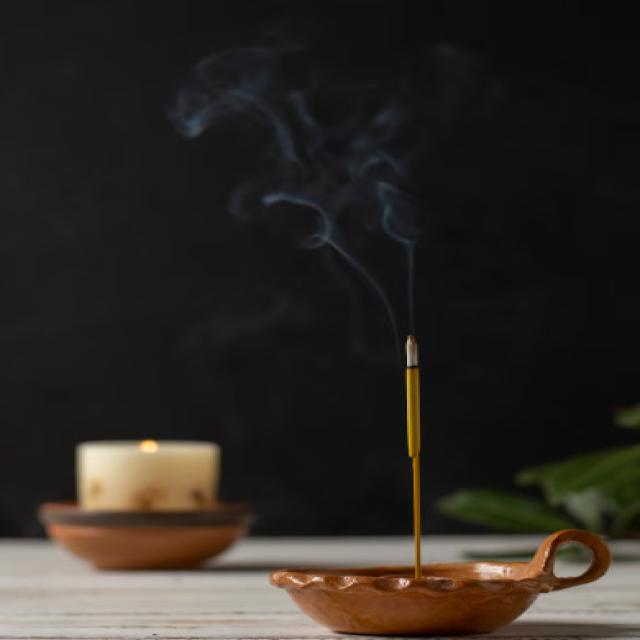Agarbatti: (394, 324, 441, 579)
